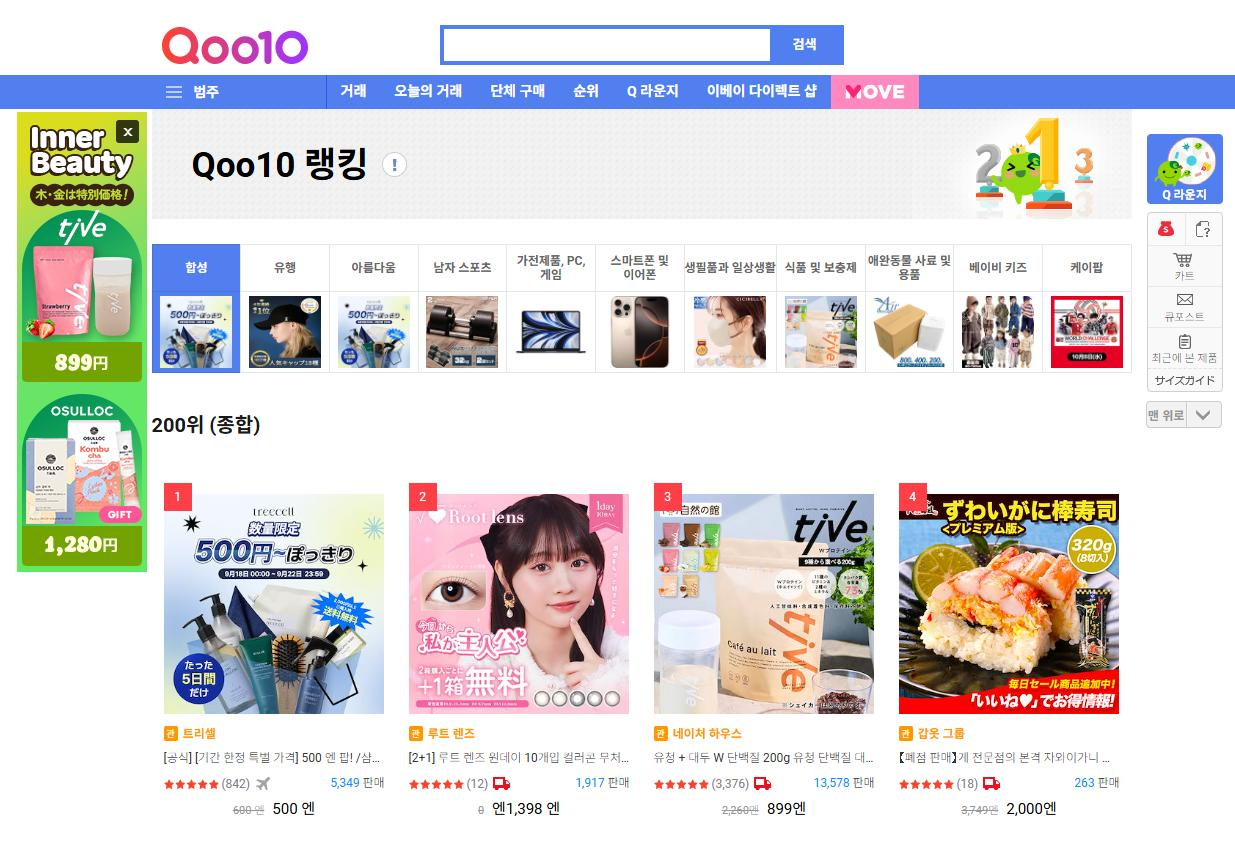button: (682, 246, 776, 371), (152, 240, 239, 373), (1043, 244, 1130, 374), (241, 242, 327, 370), (866, 242, 952, 369), (955, 243, 1043, 367), (333, 241, 416, 370), (778, 243, 862, 369), (600, 247, 680, 372), (422, 243, 501, 369), (511, 247, 590, 373), (1149, 133, 1224, 208), (703, 77, 820, 109), (833, 75, 920, 110), (1149, 285, 1223, 326), (1148, 322, 1218, 365), (1144, 394, 1223, 432), (1149, 247, 1223, 284), (159, 75, 232, 112), (391, 74, 468, 107), (619, 76, 697, 108), (486, 80, 557, 107), (332, 72, 380, 110), (1148, 213, 1185, 245), (1187, 212, 1220, 245), (567, 80, 604, 108)
input_field: (430, 14, 858, 73)
popup: (5, 110, 147, 578)
